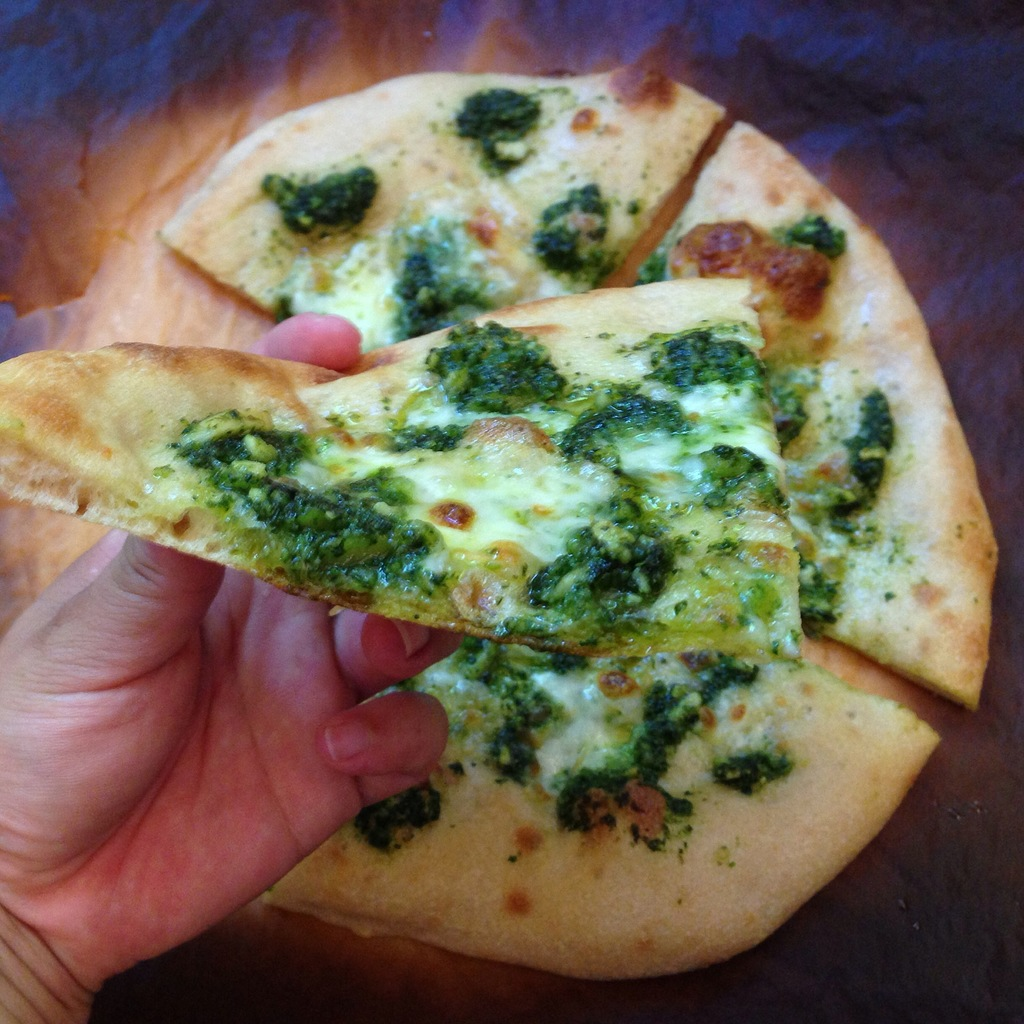Pizza: (0, 268, 870, 672), (258, 632, 952, 982), (631, 116, 991, 712), (153, 62, 725, 352)
